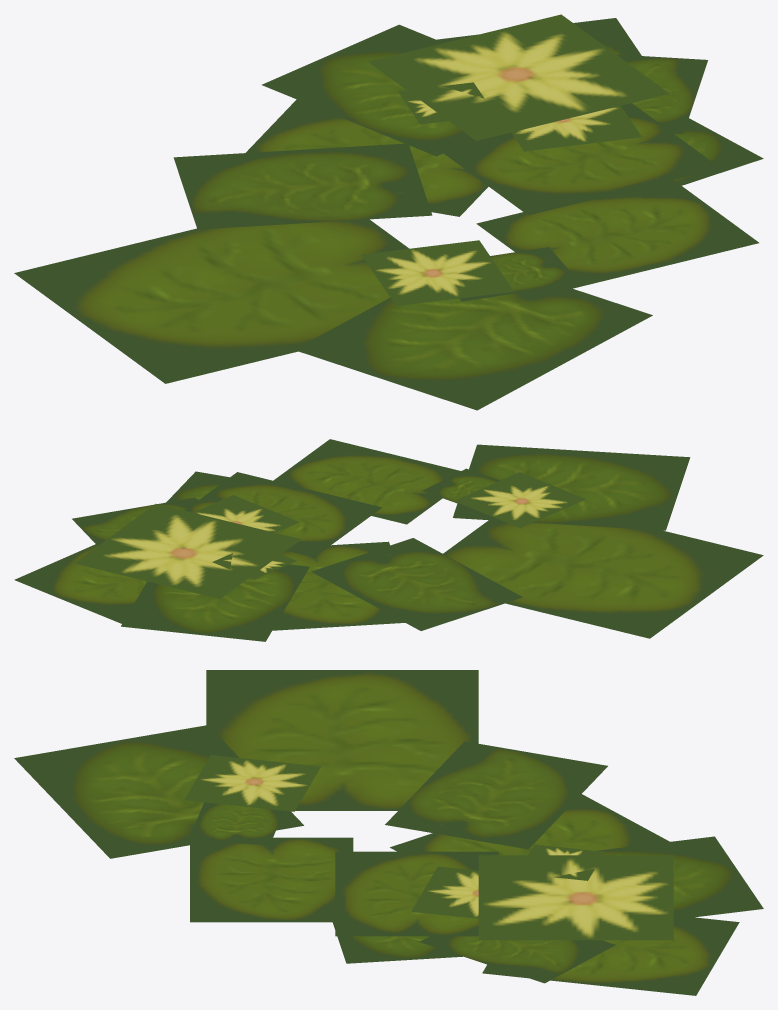
Rendered from Water_lily_05.FBX.
3 views of the same model, one above another, from view 1: azimuth 30°, elevation 25°; view 2: azimuth 150°, elevation 25°; view 3: azimuth 270°, elevation 25° (orthographic). The views are drawn at different scales.
Visible parts, largest first — view 1: Water_lily_05; view 2: Water_lily_05; view 3: Water_lily_05.
Part boxes in pixels (left/top/right/bottom): Water_lily_05: left=14, top=14, right=763, bottom=410; Water_lily_05: left=14, top=439, right=763, bottom=641; Water_lily_05: left=14, top=670, right=763, bottom=995.
Bounding box in the file's own units: 200 × 7.6 × 198.
